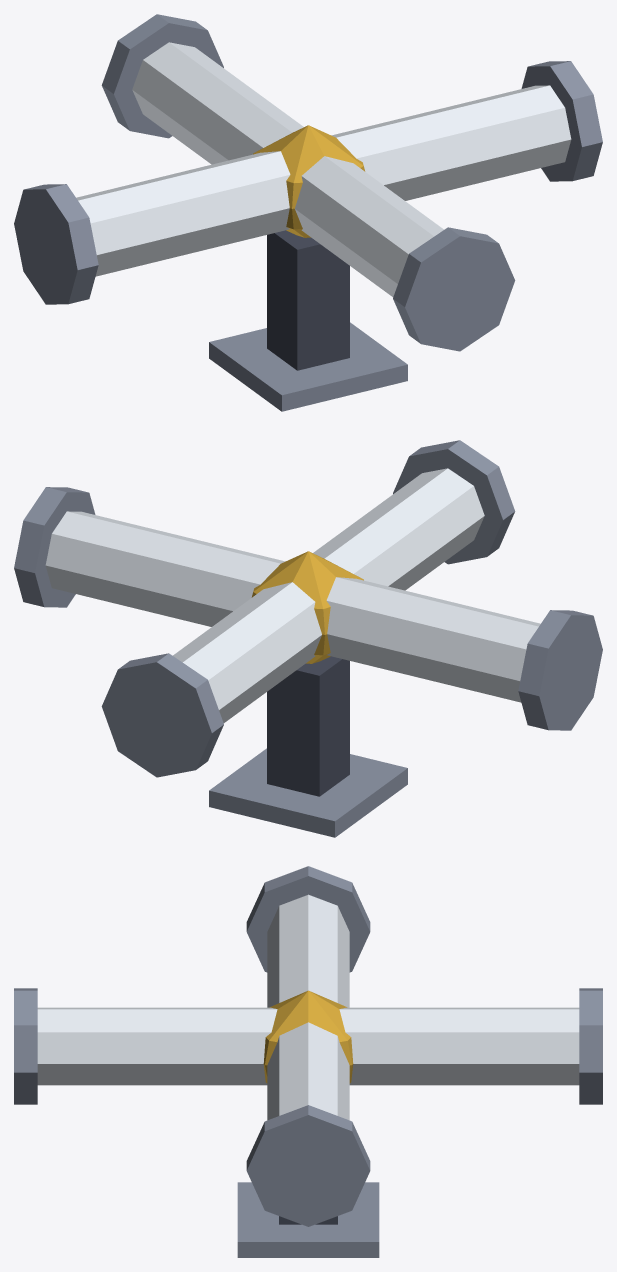
File: steam-pipe-cross.glb
3 renders of one model, top to bottom at view 1: azimuth 30°, elevation 25°; view 2: azimuth 150°, elevation 25°; view 3: azimuth 270°, elevation 25°, orthographic. The views are drawn at different scales.
Visible parts, largest first — view 1: steam-pipe-cross; view 2: steam-pipe-cross; view 3: steam-pipe-cross.
Boxes of the visible parts, box(x1,y1,x2,y2) form: steam-pipe-cross: box(14, 14, 602, 411); steam-pipe-cross: box(14, 440, 602, 837); steam-pipe-cross: box(14, 866, 602, 1257).
Bounding box in the file's own units: 1 × 0.445 × 1.
Materials: 1 (1 with a texture image).
